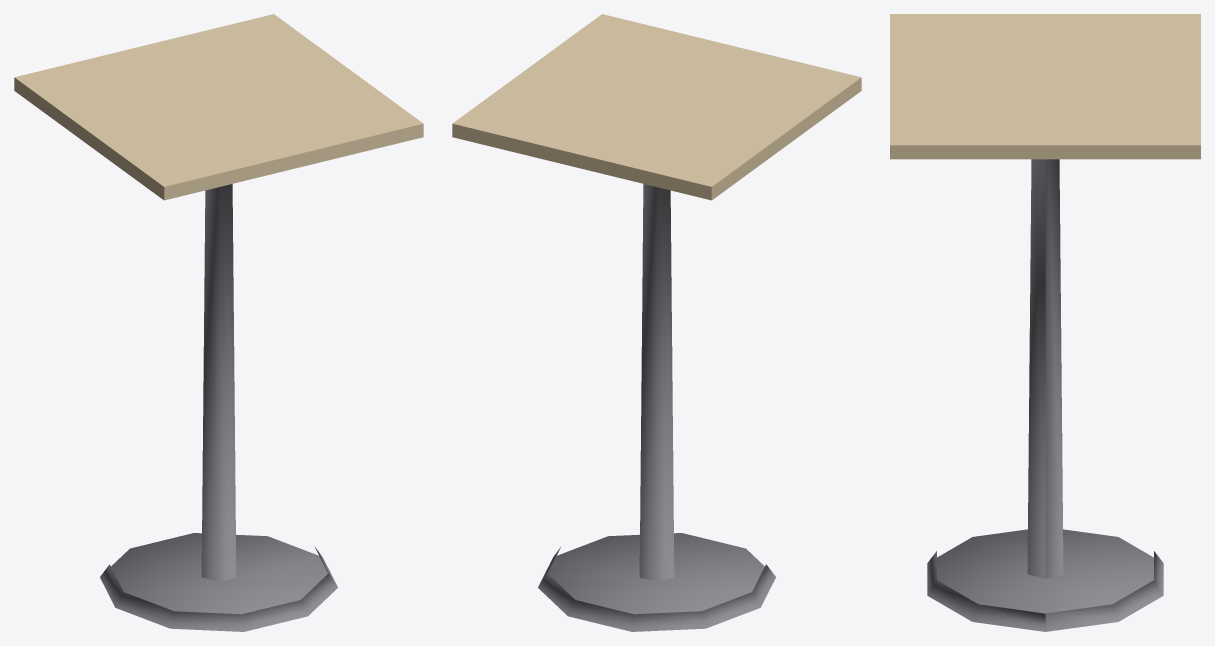
File: bar_table.glb
The picture shows the model from 3 angles, left to right: view 1: azimuth 30°, elevation 25°; view 2: azimuth 150°, elevation 25°; view 3: azimuth 270°, elevation 25°; orthographic projection. The views are drawn at different scales.
Parts seen in each view (by area): view 1: top, base, pole; view 2: top, base, pole; view 3: top, base, pole.
Boxes of the visible parts, x1,y1,x2,y2 form: top: (14, 14, 423, 200); base: (100, 533, 337, 631); pole: (201, 184, 236, 581); top: (452, 14, 861, 200); base: (538, 533, 775, 631); pole: (639, 184, 674, 581); top: (890, 14, 1200, 159); base: (927, 529, 1163, 631); pole: (1027, 159, 1063, 578).
Size of the model in its own units: 0.6 by 1.07 by 0.6.
